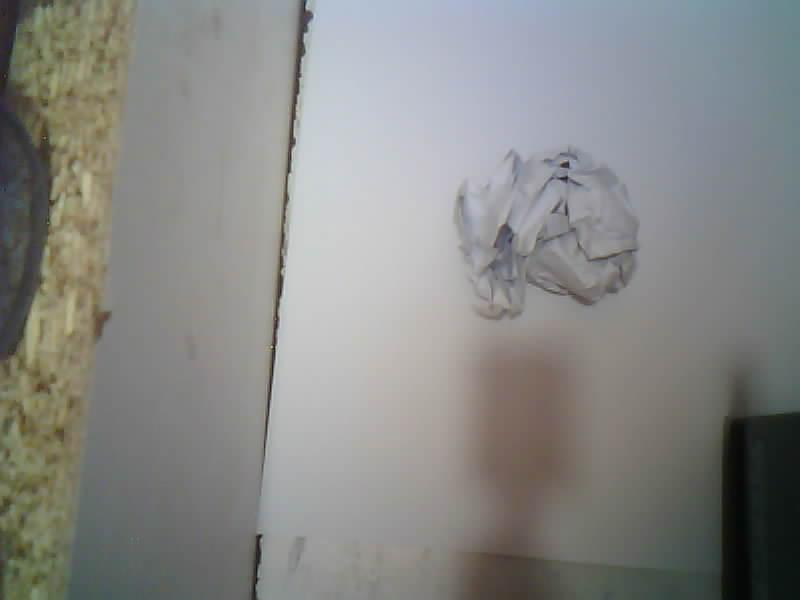biodegradable: (454, 145, 638, 318)
